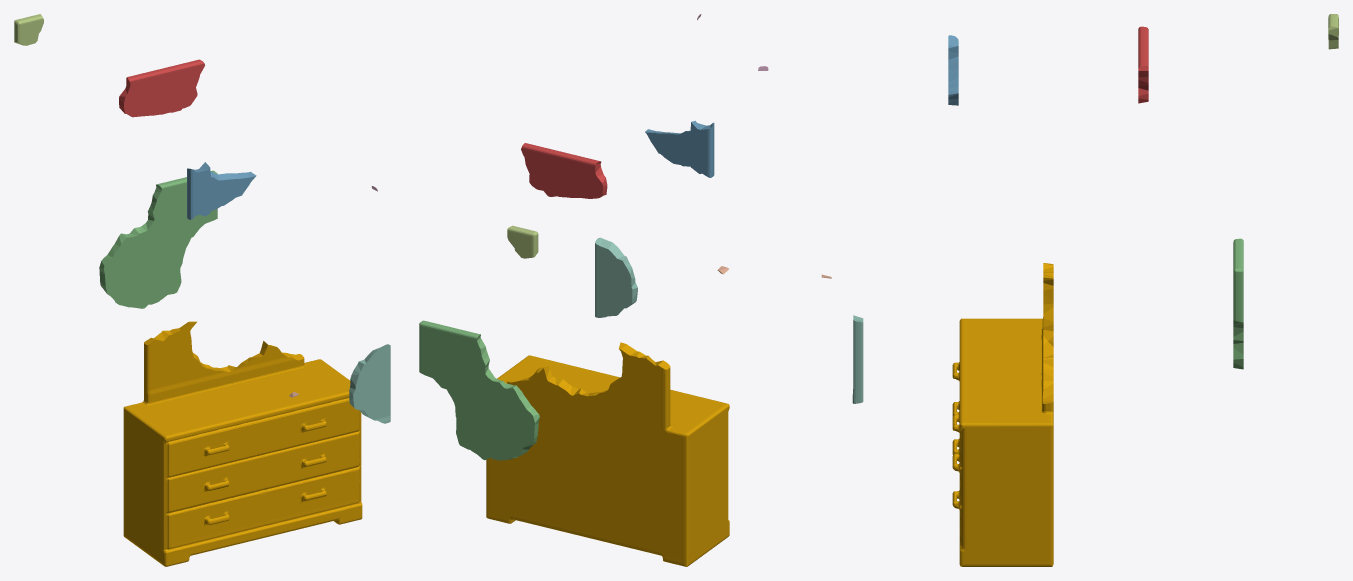
Rendered from mode_11_8pcs_transformed.glb.
3 renders of one model, left to right at view 1: azimuth 30°, elevation 25°; view 2: azimuth 150°, elevation 25°; view 3: azimuth 270°, elevation 25°, orthographic. The views are drawn at different scales.
Parts seen in each view (by area): view 1: piece_0.obj, piece_3.obj, piece_1.obj, piece_4.obj, piece_2.obj, piece_5.obj; view 2: piece_0.obj, piece_3.obj, piece_1.obj, piece_4.obj, piece_2.obj, piece_5.obj; view 3: piece_0.obj, piece_3.obj, piece_4.obj, piece_1.obj, piece_2.obj.
Part boxes in pixels (x1=…): piece_0.obj: x1=123, y1=321, x2=362, y2=566; piece_3.obj: x1=99, y1=170, x2=217, y2=308; piece_1.obj: x1=119, y1=59, x2=204, y2=117; piece_4.obj: x1=349, y1=344, x2=390, y2=423; piece_2.obj: x1=187, y1=162, x2=256, y2=219; piece_5.obj: x1=14, y1=14, x2=43, y2=45; piece_0.obj: x1=486, y1=342, x2=729, y2=566; piece_3.obj: x1=419, y1=320, x2=539, y2=460; piece_1.obj: x1=521, y1=143, x2=607, y2=198; piece_4.obj: x1=595, y1=237, x2=637, y2=317; piece_2.obj: x1=645, y1=120, x2=714, y2=177; piece_5.obj: x1=507, y1=225, x2=538, y2=258; piece_0.obj: x1=952, y1=263, x2=1053, y2=566; piece_3.obj: x1=1233, y1=238, x2=1243, y2=369; piece_4.obj: x1=852, y1=315, x2=863, y2=403; piece_1.obj: x1=1138, y1=26, x2=1148, y2=103; piece_2.obj: x1=948, y1=35, x2=958, y2=105.
Size of the model in its own units: 0.7955 by 1.6 by 1.83.
